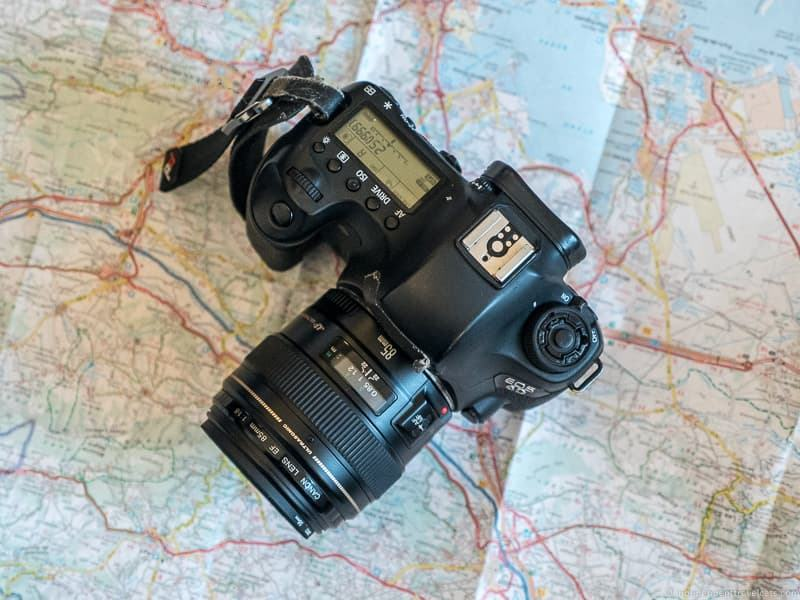camera: (226, 75, 600, 538)
